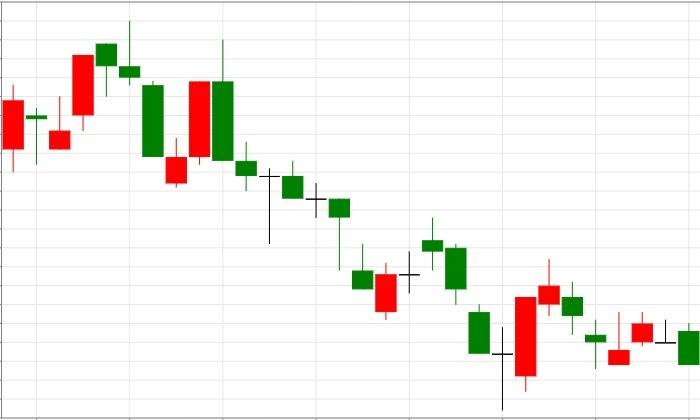morning_star_rise: (421, 217, 537, 411)
three_black_crows_fall: (48, 20, 165, 157)
